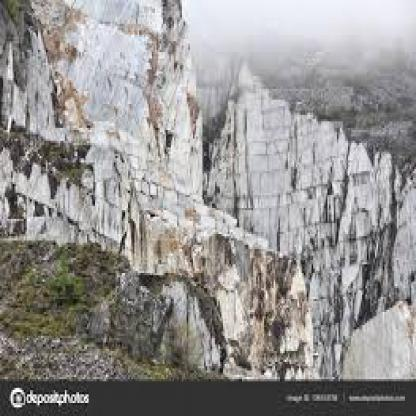Metamorphic_Marble: (212, 65, 408, 215), (133, 204, 389, 292)
